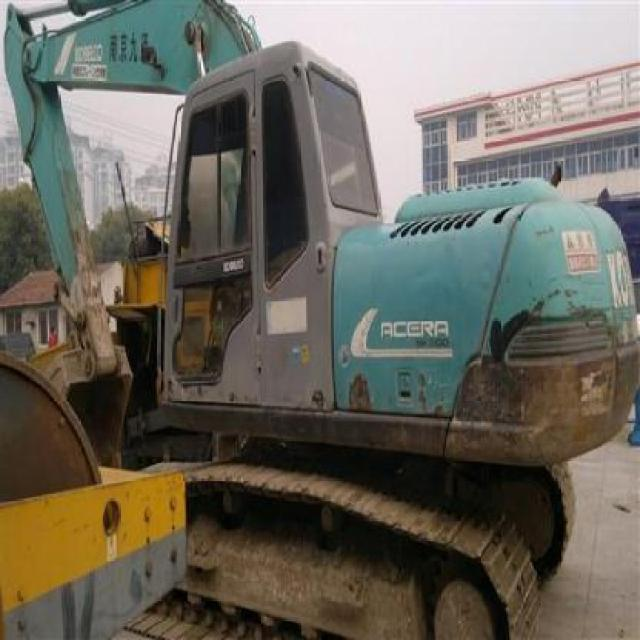excavator: (1, 1, 634, 632)
